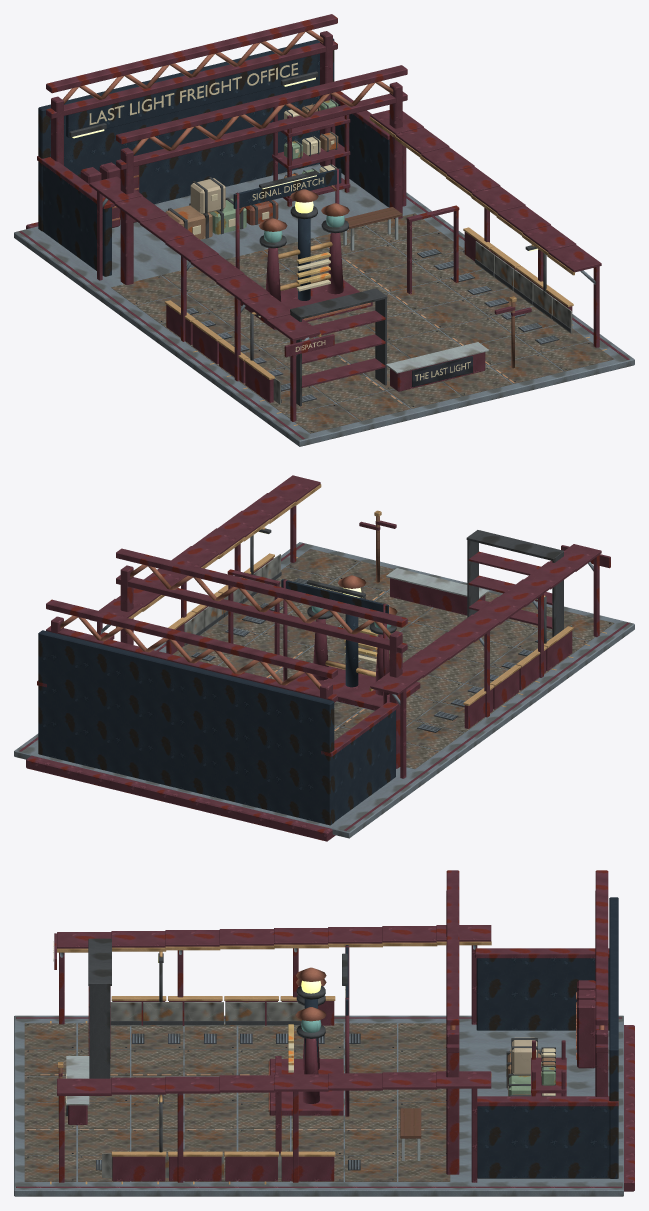
File: beacon-far-wink-depot.glb
3 renders of one model, top to bottom at view 1: azimuth 30°, elevation 25°; view 2: azimuth 150°, elevation 25°; view 3: azimuth 270°, elevation 25°, orthographic. The views are drawn at different scales.
Visible parts, largest first — view 1: beacon-far-wink-depot; view 2: beacon-far-wink-depot; view 3: beacon-far-wink-depot.
Boxes of the visible parts, bbox=[...] form: beacon-far-wink-depot: bbox=[14, 14, 634, 446]; beacon-far-wink-depot: bbox=[14, 475, 634, 841]; beacon-far-wink-depot: bbox=[14, 870, 634, 1196].
Size of the model in its own units: 16.9 by 7.63 by 25.34.
Materials: 22 (20 with a texture image).
